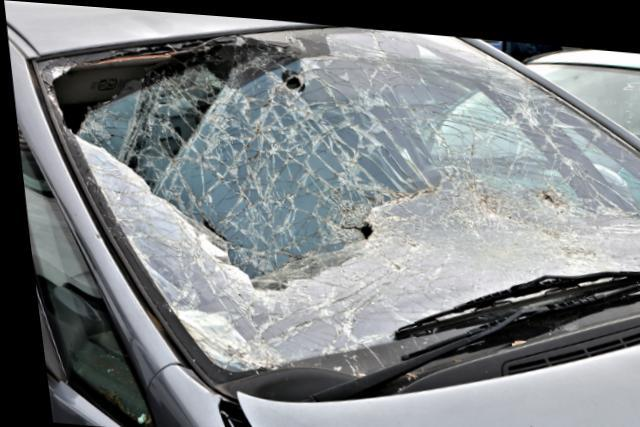dent: (120, 10, 173, 36)
glass shatter: (35, 20, 640, 380)
